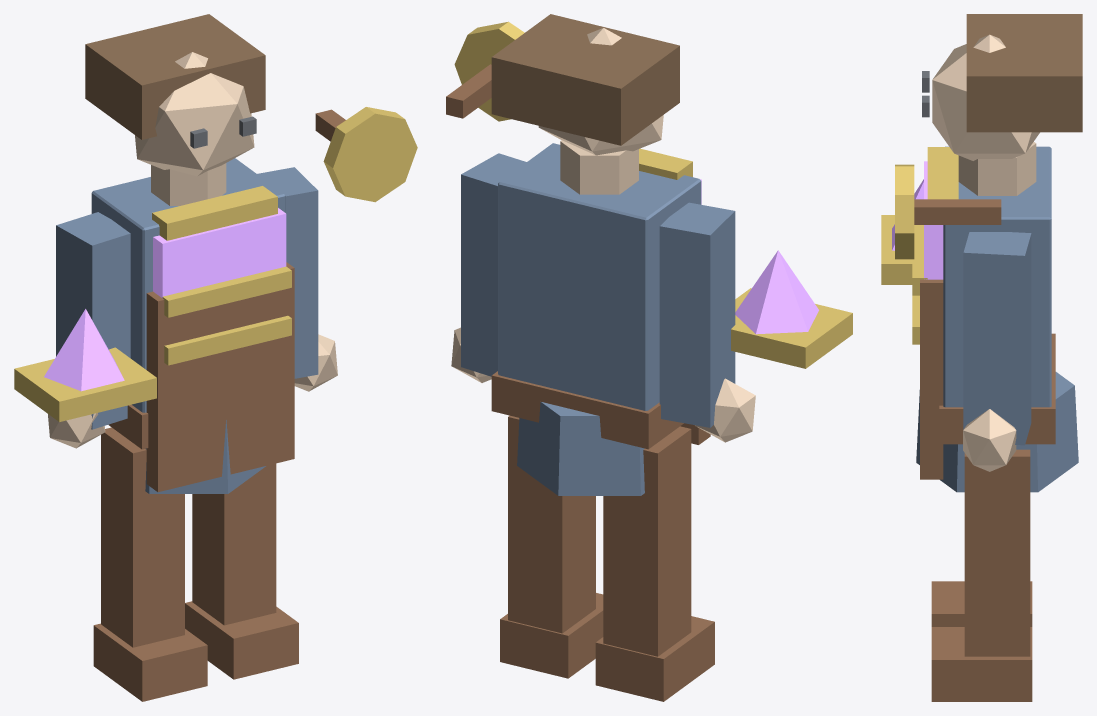
File: npc_jeweler.glb
3 renders of one model, left to right at view 1: azimuth 30°, elevation 25°; view 2: azimuth 150°, elevation 25°; view 3: azimuth 270°, elevation 25°, orthographic. The views are drawn at different scales.
Parts seen in each view (by area): view 1: torso.004; view 2: torso.004; view 3: torso.004.
Part boxes in pixels (<box>): torso.004: <box>14,14,417,701</box>; torso.004: <box>446,14,852,701</box>; torso.004: <box>881,14,1082,701</box>.
Size of the model in its own units: 1.12 by 1.79 by 0.52.
